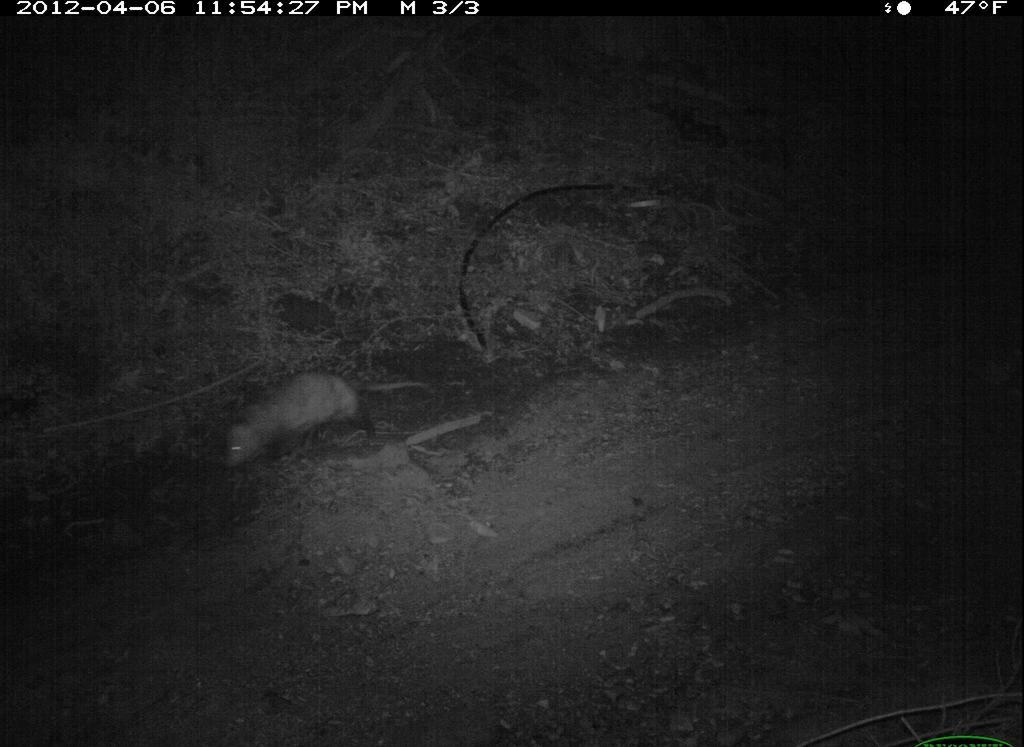opossum: (214, 361, 442, 481)
